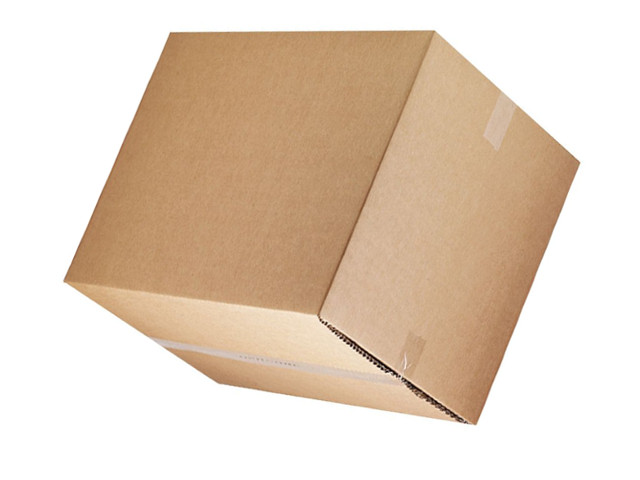cardboard: (61, 31, 579, 427)
